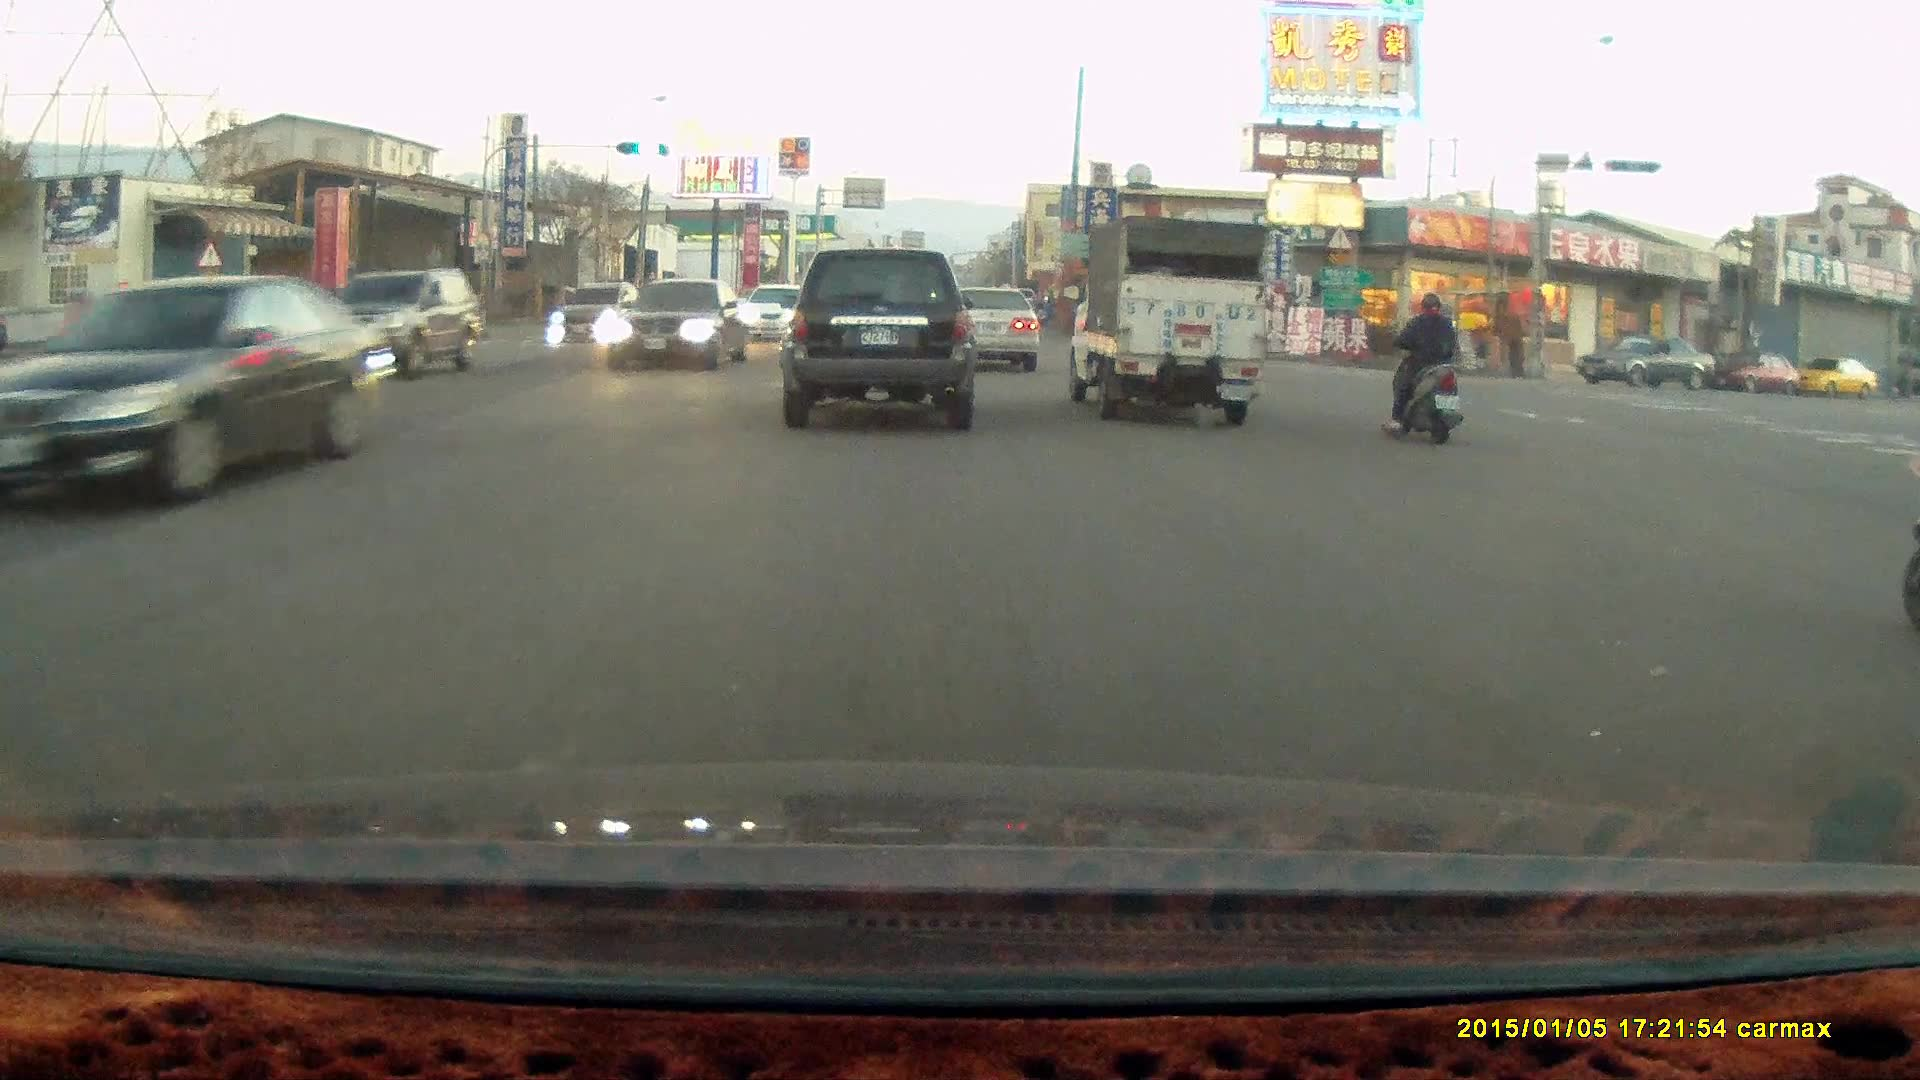rider: (1382, 291, 1461, 447)
vehicle: (2, 277, 402, 522), (1061, 213, 1274, 427), (780, 247, 977, 432), (609, 281, 755, 375), (928, 283, 1040, 375), (944, 287, 1043, 376), (1573, 335, 1721, 392), (554, 281, 642, 347), (347, 289, 459, 336), (1787, 357, 1880, 400), (1715, 352, 1804, 395)
